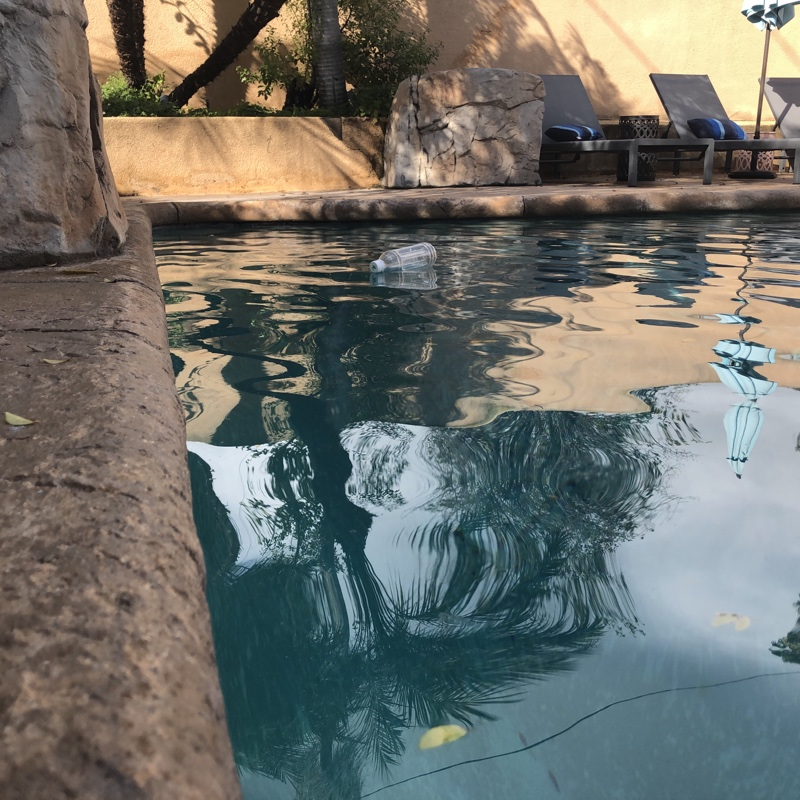Plastic Bottle: (365, 241, 443, 278)
